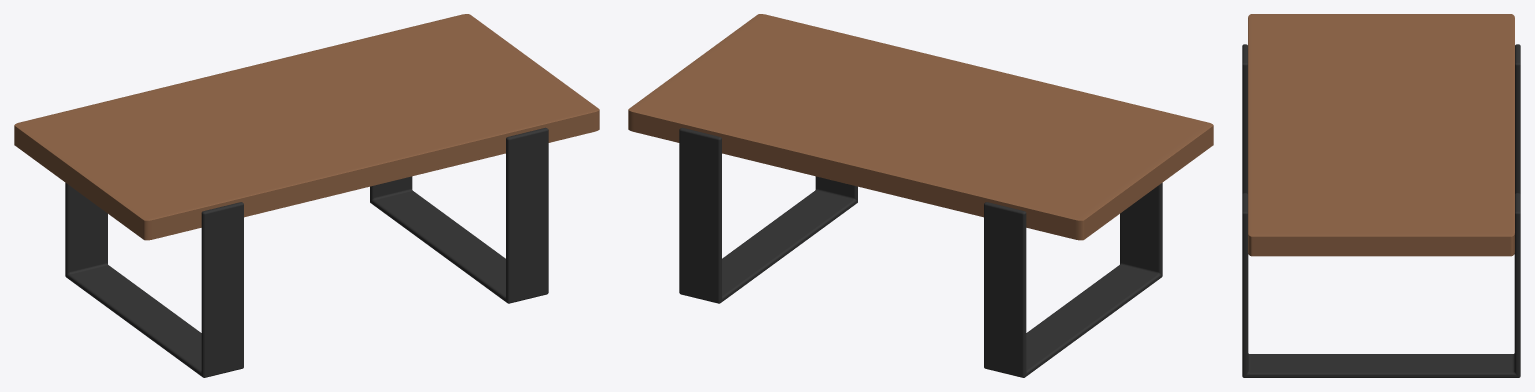
File: compressed_SmallDiningTable.glb
The picture shows the model from 3 angles, left to right: view 1: azimuth 30°, elevation 25°; view 2: azimuth 150°, elevation 25°; view 3: azimuth 270°, elevation 25°; orthographic projection.
Parts seen in each view (by area): view 1: Cube.001, Cube.002; view 2: Cube.001, Cube.002; view 3: Cube.001, Cube.002.
Boxes of the visible parts, <box> form: Cube.001: <box>14,14,599,240</box>; Cube.002: <box>65,127,548,377</box>; Cube.001: <box>628,14,1213,240</box>; Cube.002: <box>679,127,1162,377</box>; Cube.001: <box>1248,14,1514,256</box>; Cube.002: <box>1242,44,1520,377</box>.
Bounding box in the file's own units: 1.7 × 0.6024 × 0.8985.
